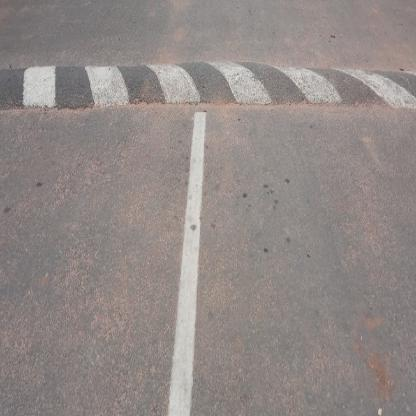speed-bumps: (1, 53, 415, 123)
